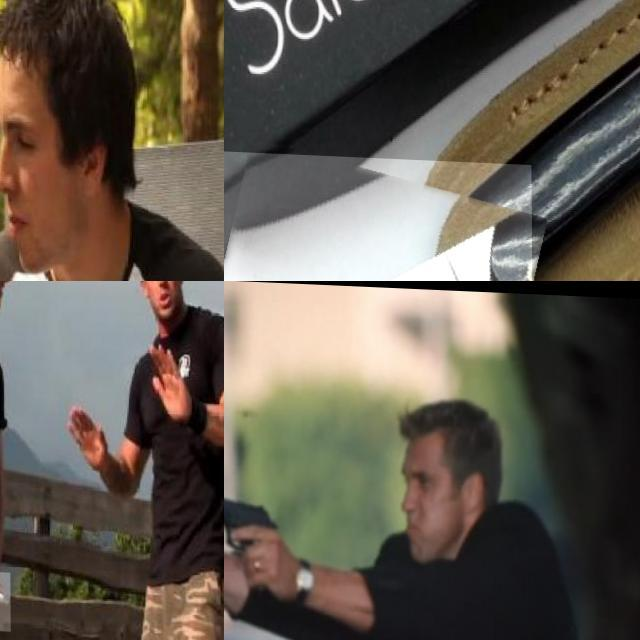-: (224, 151, 532, 281), (0, 566, 41, 628)
gun-knife-thesis - v11 Yolov5 augmented: (224, 474, 288, 592), (224, 454, 285, 575)
